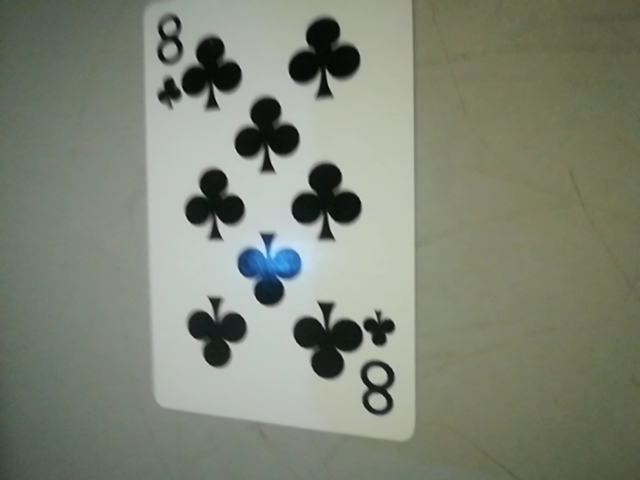mh 8: (352, 305, 414, 427)
